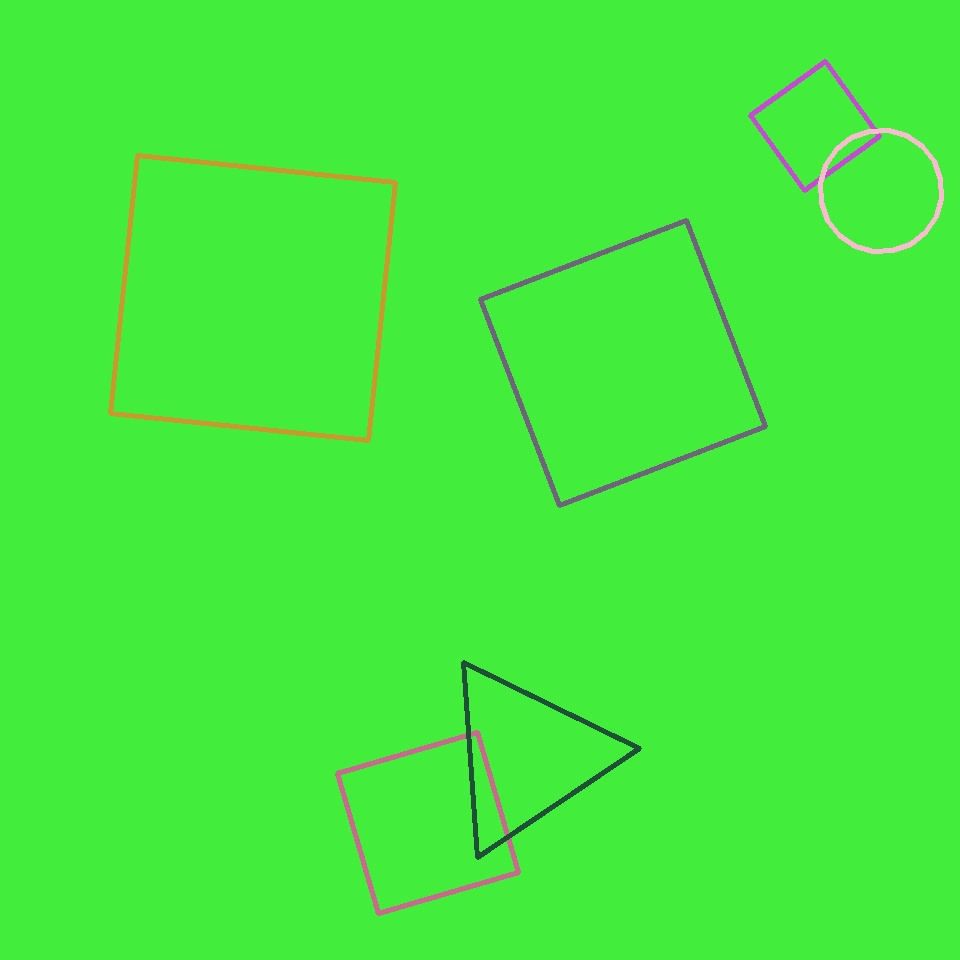circle: (439, 658, 615, 854)
square: (480, 220, 766, 506), (110, 156, 396, 440), (338, 732, 518, 914), (751, 62, 880, 190)
triangle: (820, 130, 942, 252)
